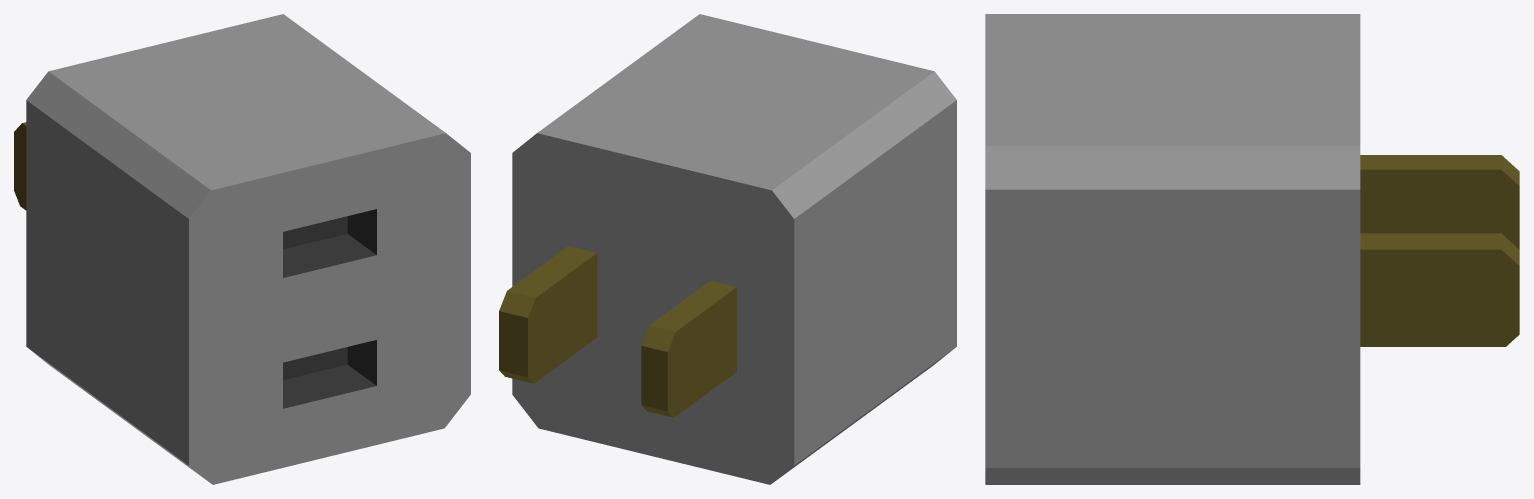
The model's file is Phone Charger Cube.fbx.
3 renders of one model, left to right at view 1: azimuth 30°, elevation 25°; view 2: azimuth 150°, elevation 25°; view 3: azimuth 270°, elevation 25°, orthographic. The views are drawn at different scales.
Visible parts, largest first — view 1: Cube; view 2: Cube; view 3: Cube.
Boxes of the visible parts, box(x1,y1,x2,y2) form: Cube: box(14, 14, 470, 484); Cube: box(499, 14, 956, 484); Cube: box(985, 14, 1519, 484).
Size of the model in its own units: 200 by 200 by 285.
